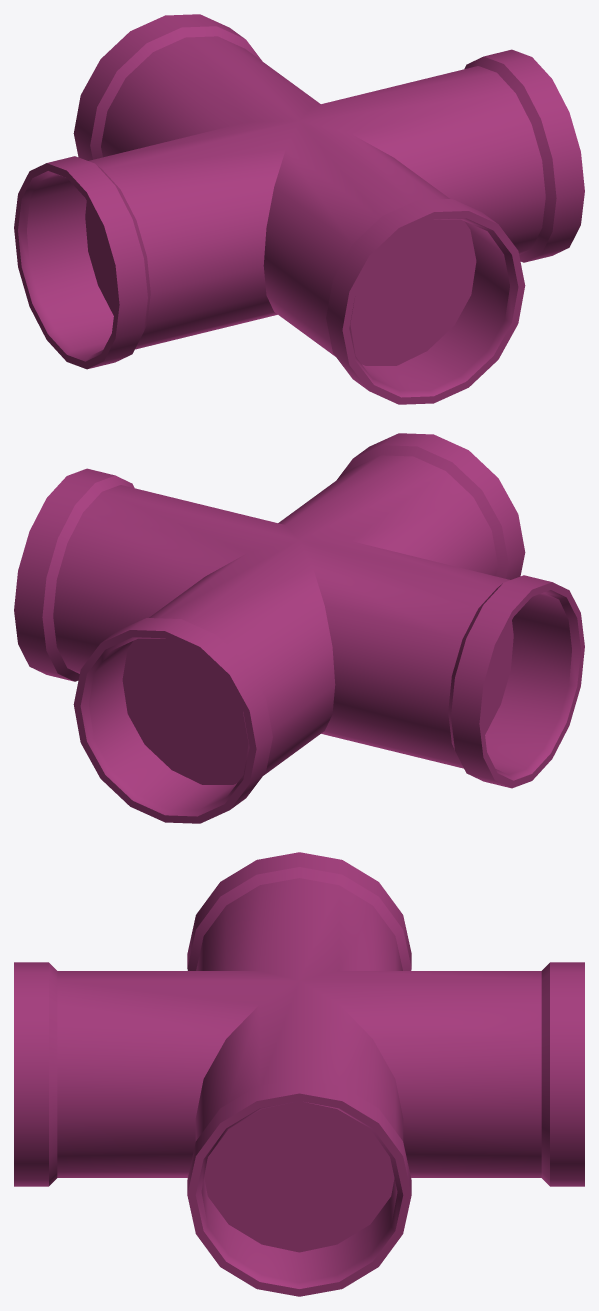
Rendered from Pipe_4_Junction.fbx.
3 renders of one model, top to bottom at view 1: azimuth 30°, elevation 25°; view 2: azimuth 150°, elevation 25°; view 3: azimuth 270°, elevation 25°, orthographic. The views are drawn at different scales.
Visible parts, largest first — view 1: Pipe_4_Junction; view 2: Pipe_4_Junction; view 3: Pipe_4_Junction.
Part boxes in pixels (x1,y1,x2,y2): Pipe_4_Junction: [14, 14, 584, 404]; Pipe_4_Junction: [14, 433, 584, 823]; Pipe_4_Junction: [14, 852, 584, 1296].
Size of the model in its own units: 14.06 by 5.52 by 14.06.
